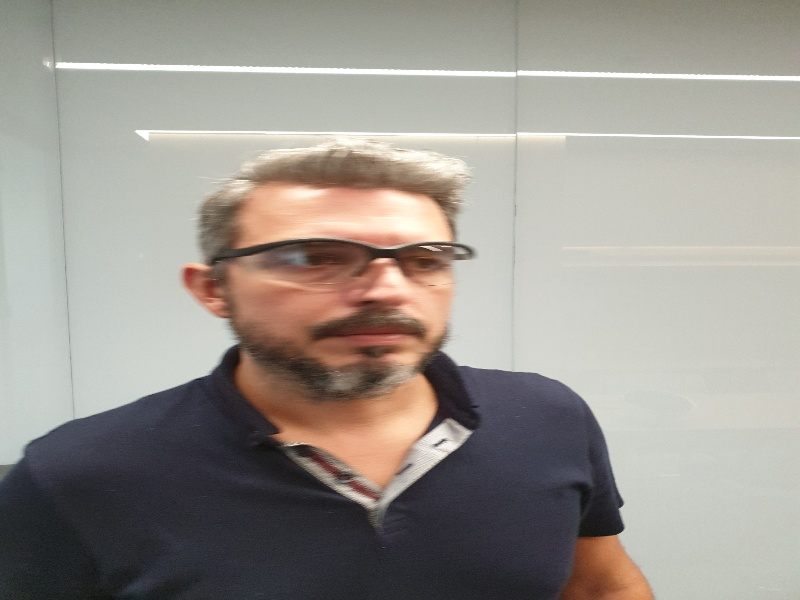Gozluk: (208, 239, 477, 294)
